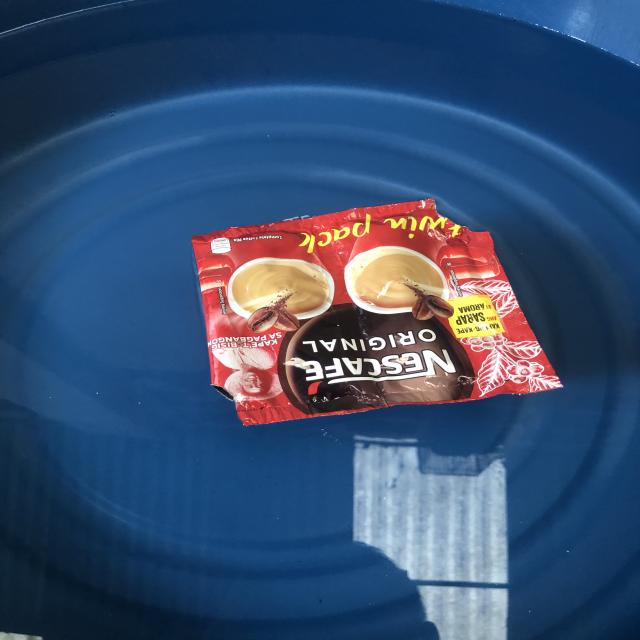Plastic Wrapper: (193, 199, 560, 425), (369, 337, 377, 344)
